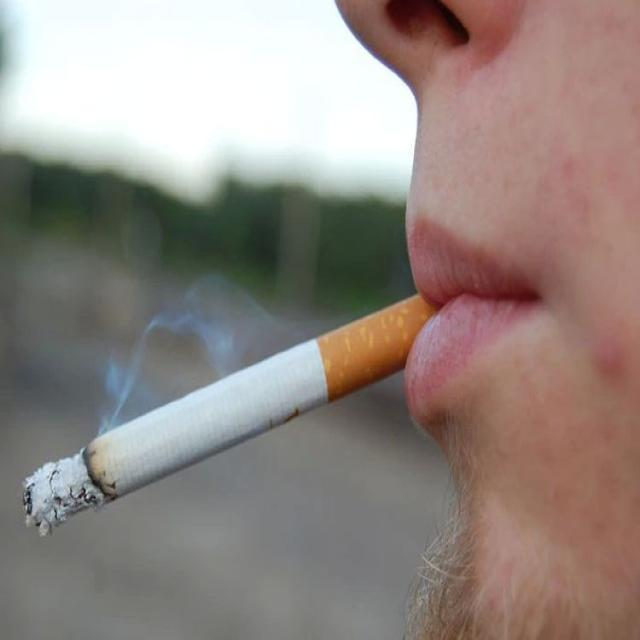rokok: (11, 264, 492, 544)
